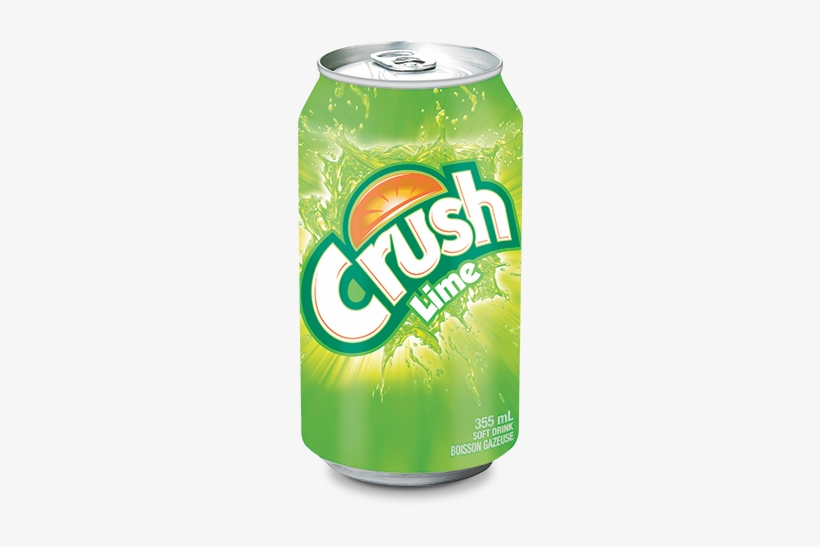can: (297, 40, 524, 494)
